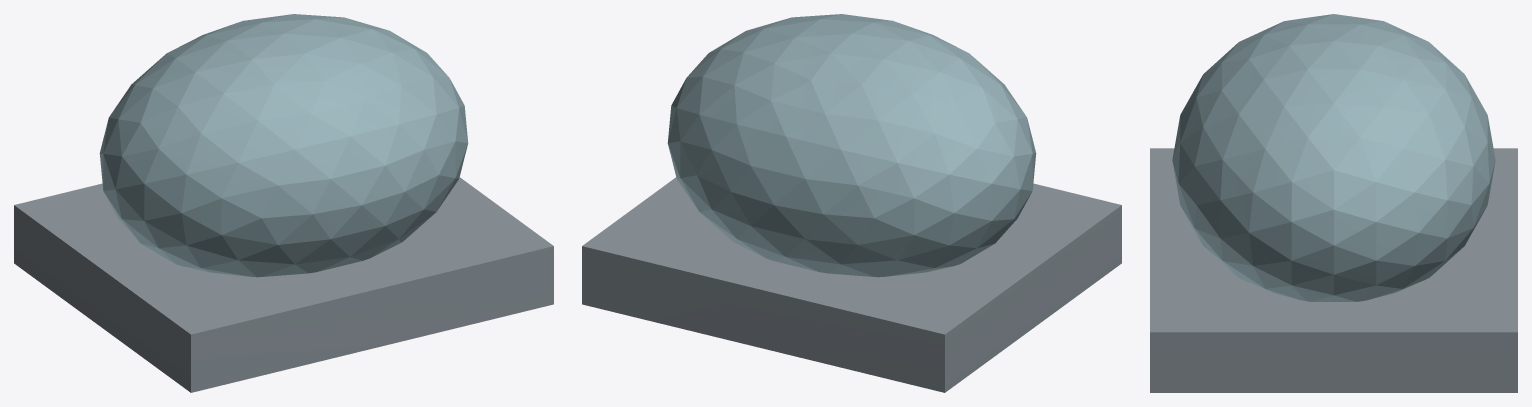
Rendered from greenhouse-03.glb.
3 views of the same model, side by side, from view 1: azimuth 30°, elevation 25°; view 2: azimuth 150°, elevation 25°; view 3: azimuth 270°, elevation 25° (orthographic). The views are drawn at different scales.
Visible parts, largest first — view 1: world; view 2: world; view 3: world.
Part boxes in pixels (left/top/right/bottom): world: left=14, top=14, right=553, bottom=392; world: left=582, top=14, right=1121, bottom=392; world: left=1150, top=14, right=1517, bottom=392.
Bounding box in the file's own units: 1.3 × 0.8579 × 1.1.
